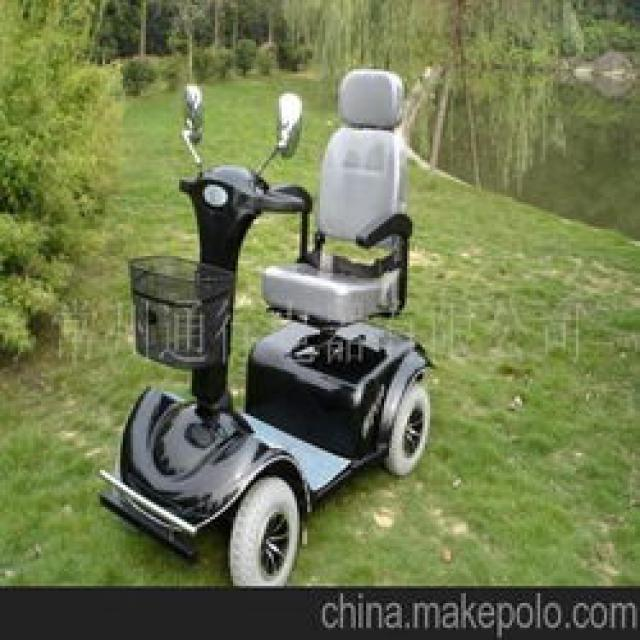wheelchair: (82, 56, 446, 582)
